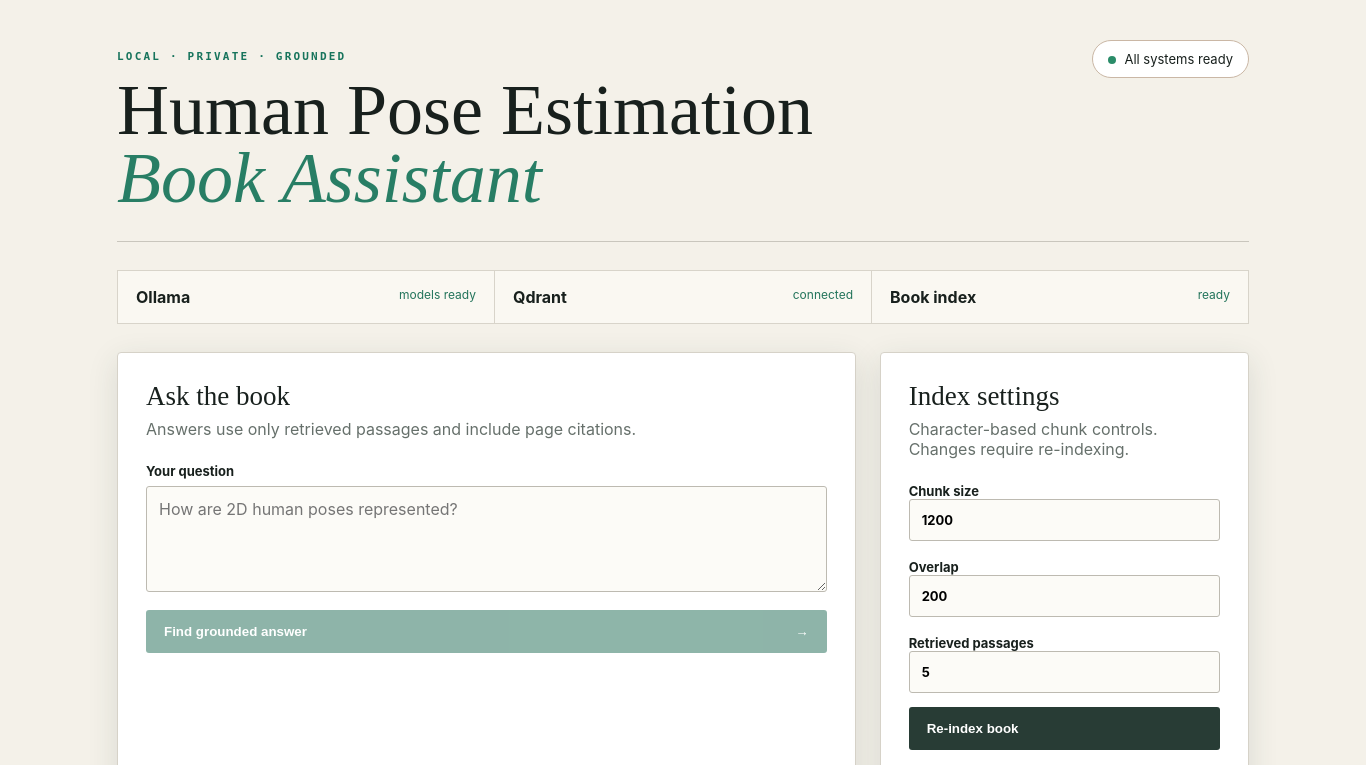
Test: shows structured backend errors with the request ID
The width and height of the screenshot is (1366, 765).
Expected: the text "All systems ready" is shown, [1092,40,1249,78]
Type "Why is monocular 3D HPE ambiguous?" into the text box labelled "Your question".
click(486, 539); type("Why is monocular 3D HPE ambiguous?")  # box [146,486,827,592]
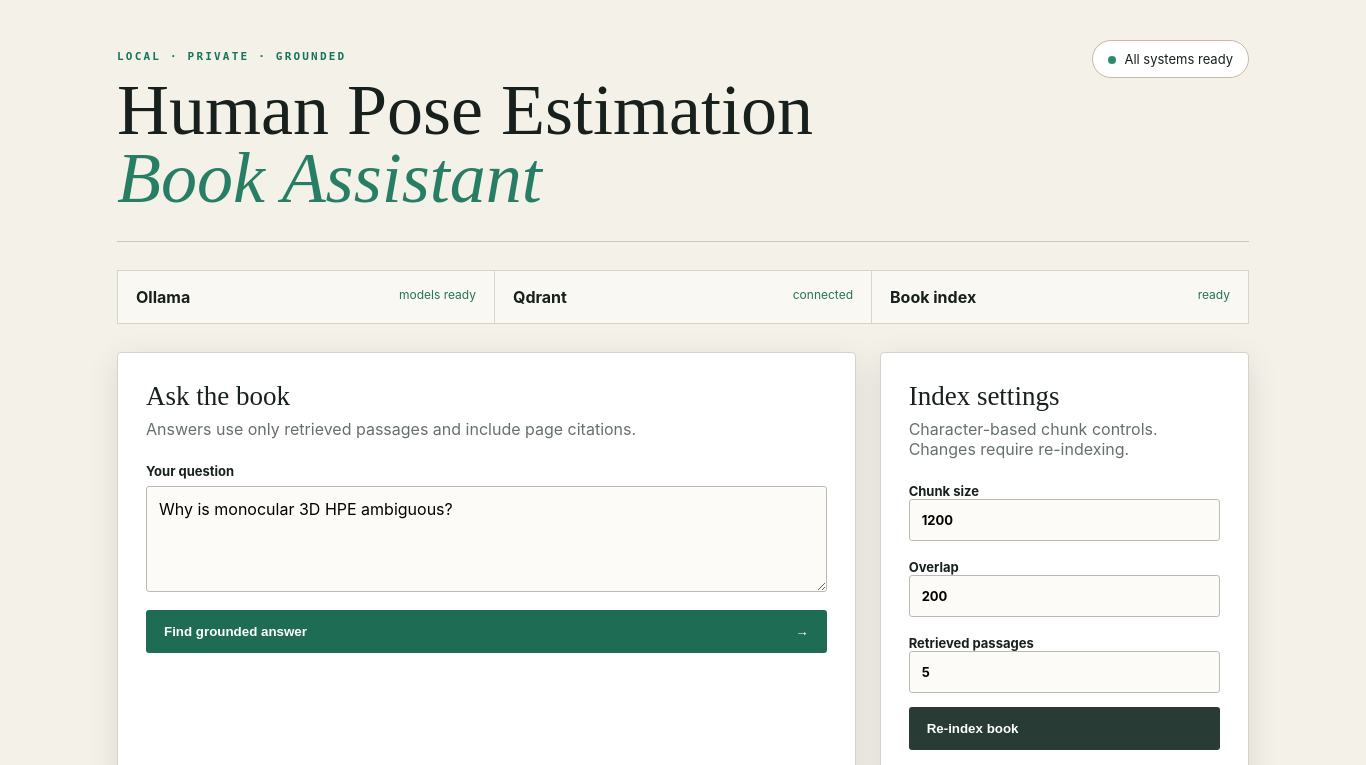
Click the button "Find grounded answer →".
click(235, 631)  # box [146,610,827,653]
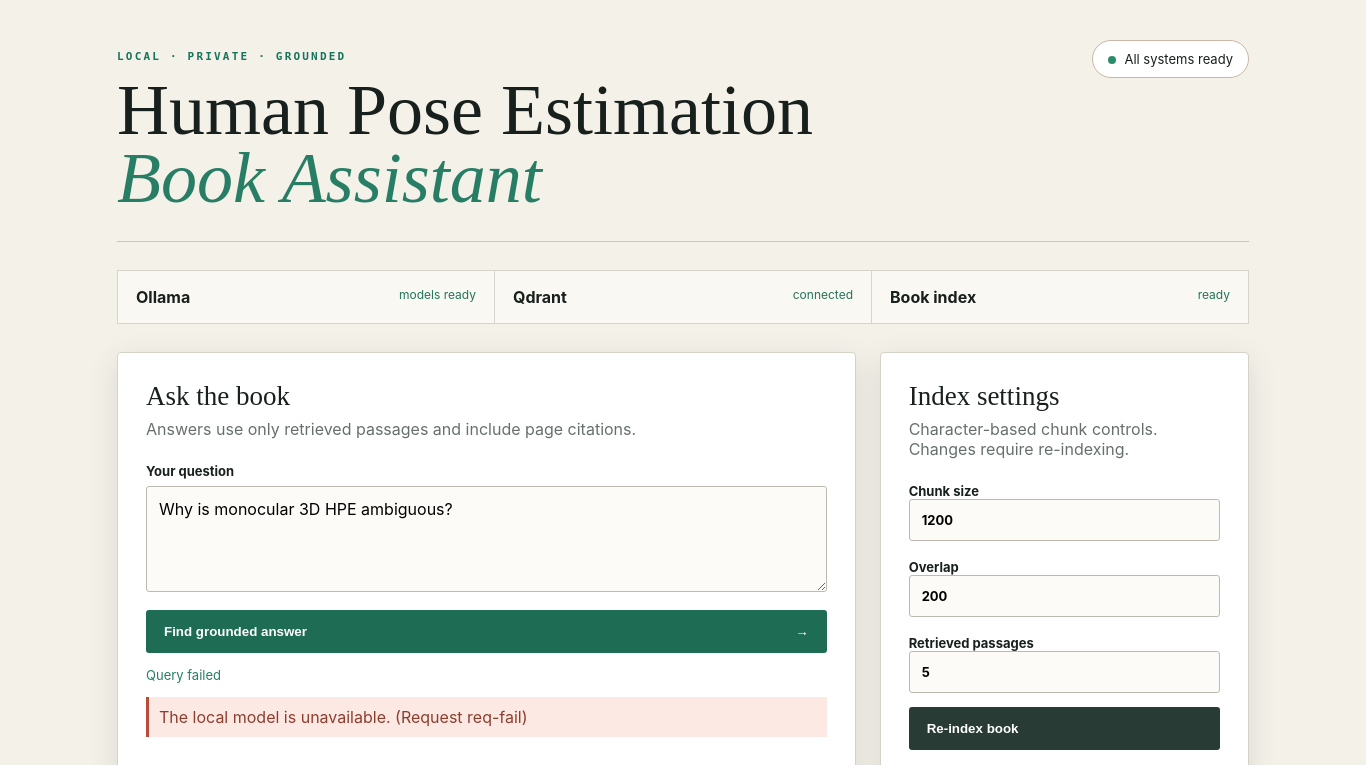
Result: the message "The local model is unavailable. (Request req-fail)" is shown at [146,697,827,737]
